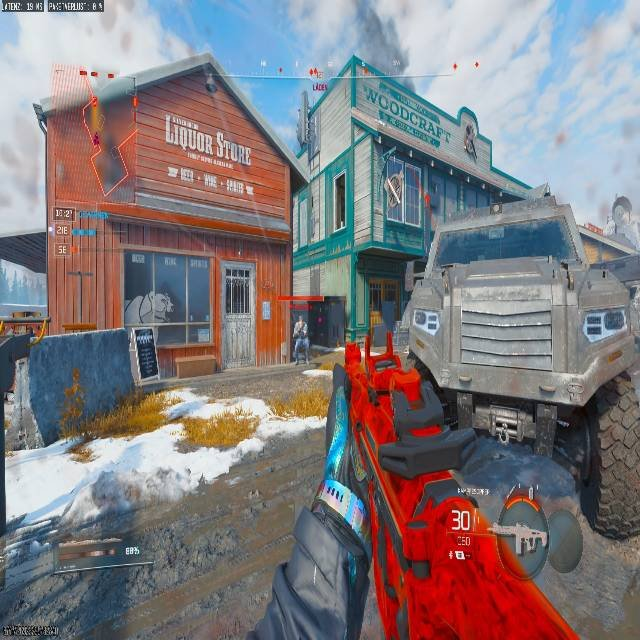head: (298, 318, 305, 325)
player: (292, 318, 309, 363)
